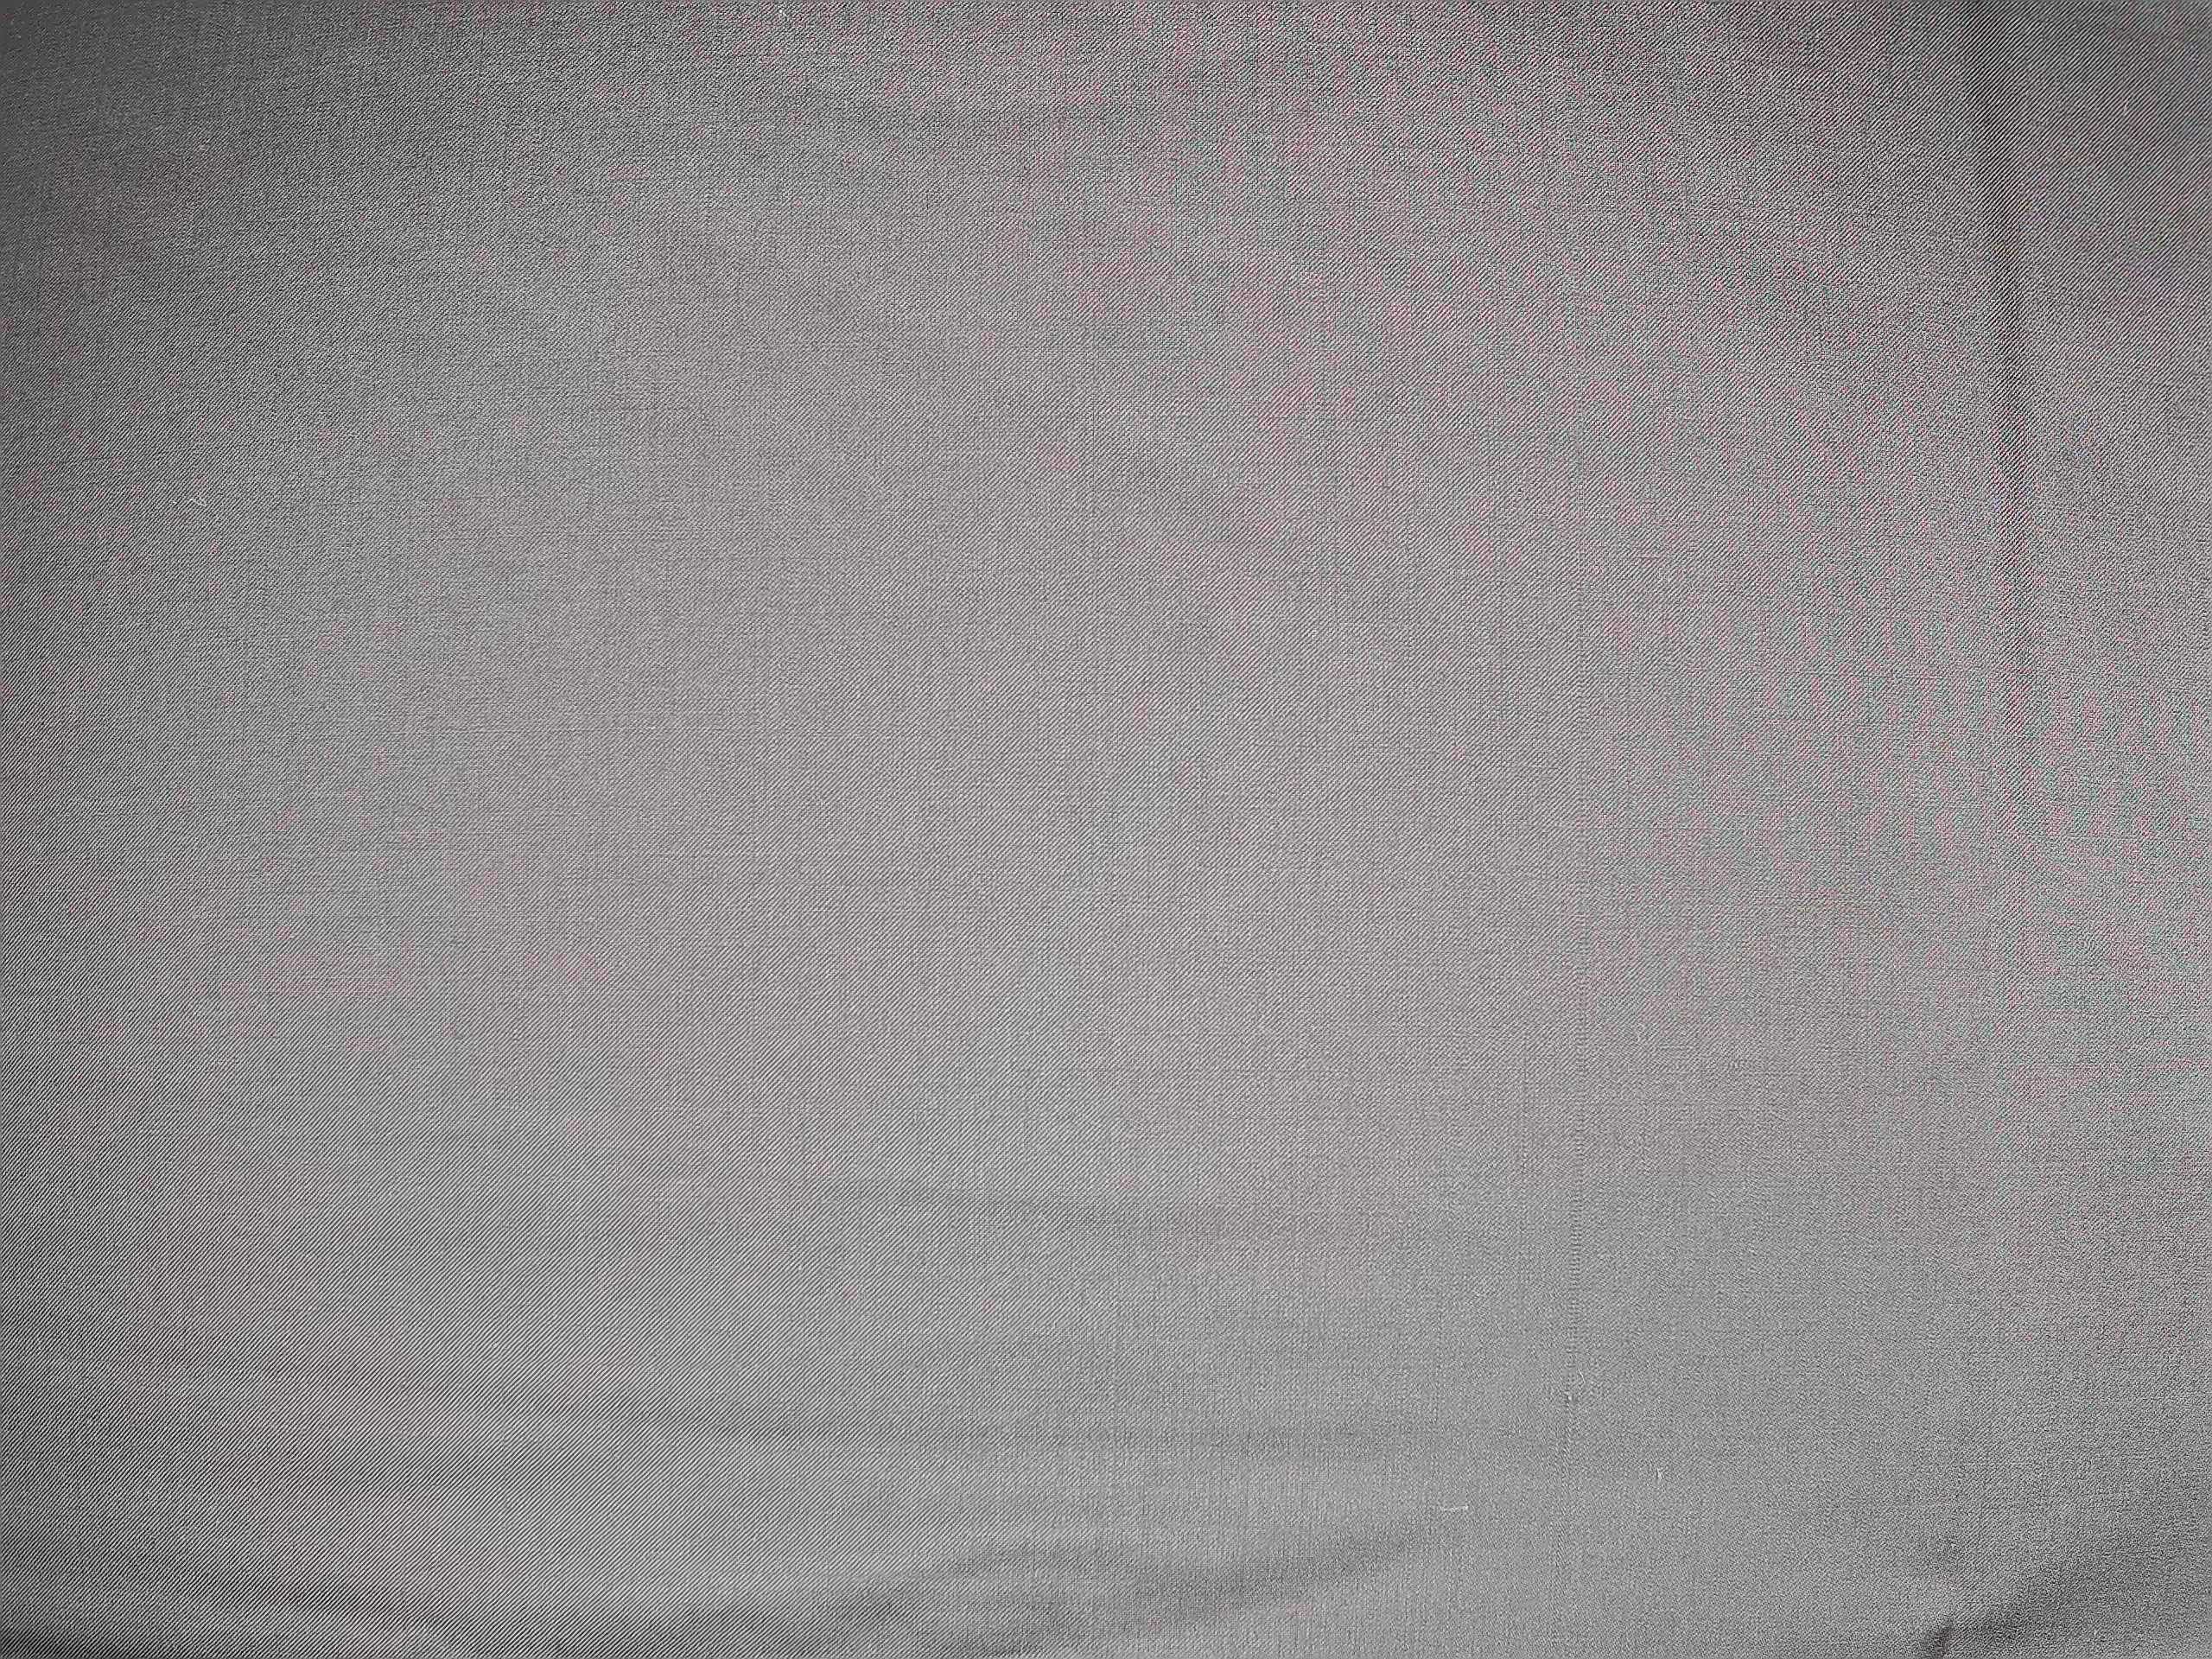hanging-warp: (1545, 976, 1590, 1499)
